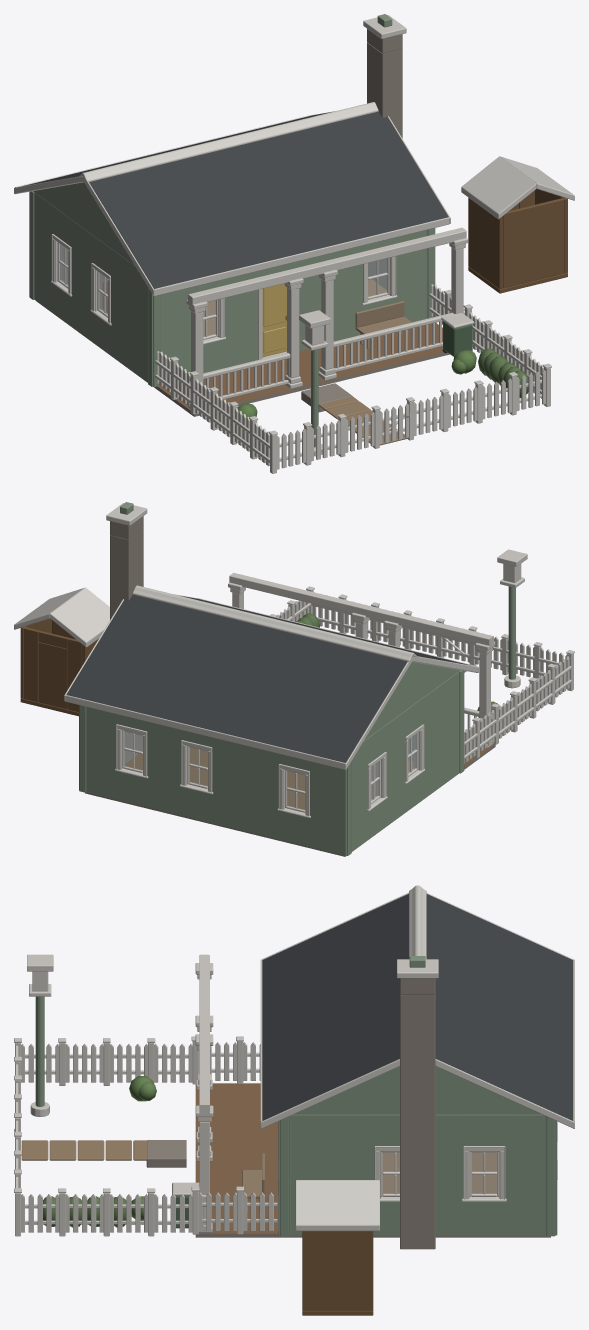
File: Starter_Bungalow.glb
3 renders of one model, top to bottom at view 1: azimuth 30°, elevation 25°; view 2: azimuth 150°, elevation 25°; view 3: azimuth 270°, elevation 25°, orthographic. The views are drawn at different scales.
Visible parts, largest first — view 1: SM_Kit_Prop_GardenShed__b0274, SM_Kit_Chimney__b0228, SM_Kit_Wall__b0019, SM_Kit_Wall__b0001, SM_Kit_Wall__b0026, SM_Kit_Wall__b0023, SM_Kit_Wall__b0004, SM_Kit_Wall__b0016, SM_Kit_Wall__b0007, SM_Kit_Wall_Window__b0005, SM_Kit_Wall_Window__b0002, SM_Kit_Wall__b0000 (+70 smaller); view 2: SM_Kit_Prop_GardenShed__b0274, SM_Kit_Chimney__b0228, SM_Kit_Wall__b0031, SM_Kit_Wall__b0034, SM_Kit_Wall__b0030, SM_Kit_Wall__b0037, SM_Kit_Wall__b0027, SM_Kit_Wall_Window__b0035, SM_Kit_Wall_Window__b0032, SM_Kit_Wall_Window__b0028, SM_Kit_Wall__b0001, SM_Kit_Wall__b0004 (+58 smaller); view 3: SM_Kit_Chimney__b0228, SM_Kit_Prop_GardenShed__b0274, SM_Kit_Wall__b0015, SM_Kit_Wall_Window__b0013, SM_Kit_Wall__b0012, SM_Kit_Wall__b0008, SM_Kit_Wall__b0009, SM_Kit_Prop_LampPost__b0279, SM_Kit_Wall_Window__b0010, SM_Kit_Post__b0040, SM_Kit_Post__b0041, SM_Kit_Window_DoubleHung__b0014 (+78 smaller).
Part boxes in pixels (x1,y1,x2,y2): SM_Kit_Prop_GardenShed__b0274: [461, 156, 574, 293]; SM_Kit_Chimney__b0228: [363, 14, 406, 138]; SM_Kit_Wall__b0019: [225, 271, 259, 367]; SM_Kit_Wall__b0001: [111, 249, 131, 370]; SM_Kit_Wall__b0026: [396, 230, 427, 322]; SM_Kit_Wall__b0023: [328, 246, 362, 341]; SM_Kit_Wall__b0004: [72, 220, 91, 341]; SM_Kit_Wall__b0016: [161, 287, 190, 373]; SM_Kit_Wall__b0007: [34, 192, 52, 312]; SM_Kit_Wall_Window__b0005: [51, 205, 72, 326]; SM_Kit_Wall_Window__b0002: [90, 234, 111, 355]; SM_Kit_Wall__b0000: [131, 263, 147, 382]; SM_Kit_Prop_GardenShed__b0274: [14, 587, 109, 716]; SM_Kit_Chimney__b0228: [106, 502, 147, 619]; SM_Kit_Wall__b0031: [213, 738, 245, 830]; SM_Kit_Wall__b0034: [148, 722, 180, 814]; SM_Kit_Wall__b0030: [246, 746, 278, 838]; SM_Kit_Wall__b0037: [86, 707, 115, 799]; SM_Kit_Wall__b0027: [311, 761, 339, 853]; SM_Kit_Wall_Window__b0035: [115, 714, 148, 806]; SM_Kit_Wall_Window__b0032: [180, 730, 213, 822]; SM_Kit_Wall_Window__b0028: [277, 753, 310, 846]; SM_Kit_Wall__b0001: [423, 684, 442, 798]; SM_Kit_Wall__b0004: [386, 711, 404, 826]; SM_Kit_Chimney__b0228: [397, 956, 438, 1249]; SM_Kit_Prop_GardenShed__b0274: [295, 1180, 379, 1315]; SM_Kit_Wall__b0015: [506, 1114, 546, 1235]; SM_Kit_Wall_Window__b0013: [462, 1114, 506, 1235]; SM_Kit_Wall__b0012: [435, 1114, 462, 1235]; SM_Kit_Wall__b0008: [289, 1114, 328, 1235]; SM_Kit_Wall__b0009: [329, 1114, 373, 1179]; SM_Kit_Prop_LampPost__b0279: [27, 954, 53, 1116]; SM_Kit_Wall_Window__b0010: [373, 1114, 399, 1235]; SM_Kit_Post__b0040: [278, 1116, 290, 1236]; SM_Kit_Post__b0041: [545, 1116, 557, 1236]; SM_Kit_Window_DoubleHung__b0014: [469, 1151, 498, 1196].
Bounding box in the file's own units: 12.78 × 7.3 × 12.63.
